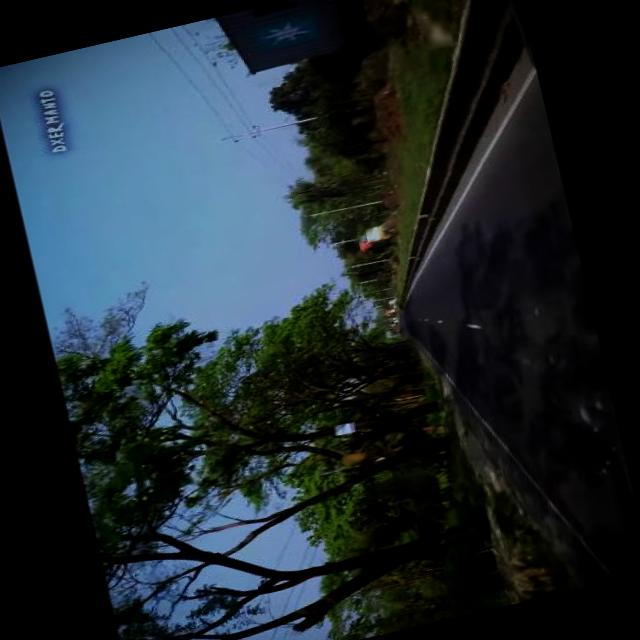truck: (352, 220, 399, 258)
